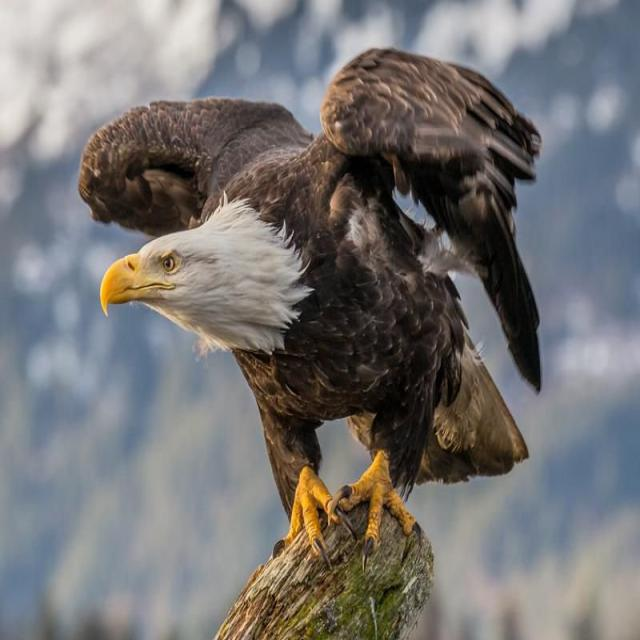Eagle: (75, 42, 539, 529)
